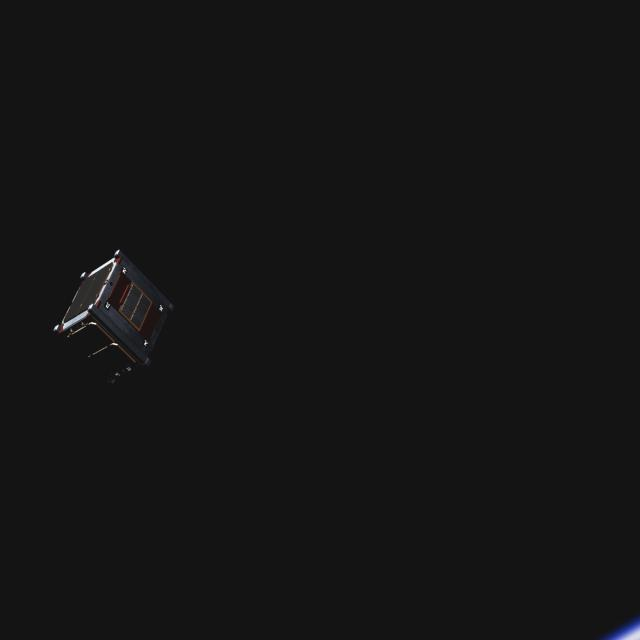satellite: (47, 245, 177, 394)
